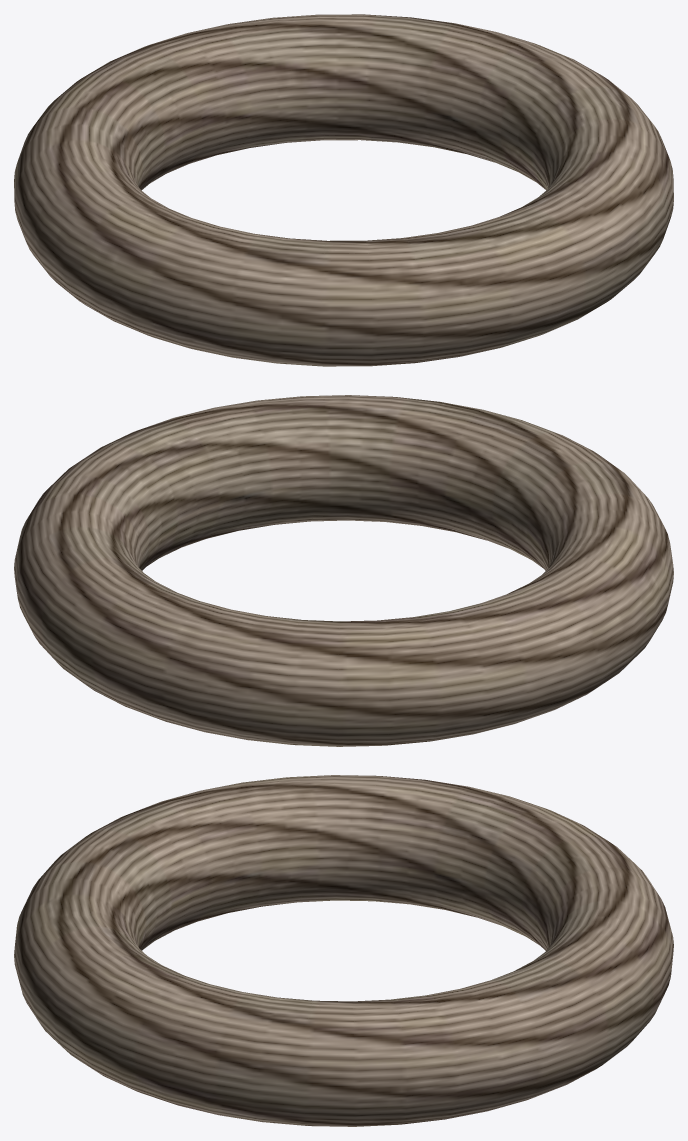
File: Rope5F.fbx
3 views of the same model, one above another, from view 1: azimuth 30°, elevation 25°; view 2: azimuth 150°, elevation 25°; view 3: azimuth 270°, elevation 25° (orthographic).
Visible parts, largest first — view 1: pTorus1; view 2: pTorus1; view 3: pTorus1.
Part boxes in pixels (left/top/right/bottom): pTorus1: left=14, top=14, right=673, bottom=366; pTorus1: left=14, top=395, right=673, bottom=746; pTorus1: left=14, top=775, right=673, bottom=1126.
Bounding box in the file's own units: 0.8224 × 0.1569 × 0.8224.
